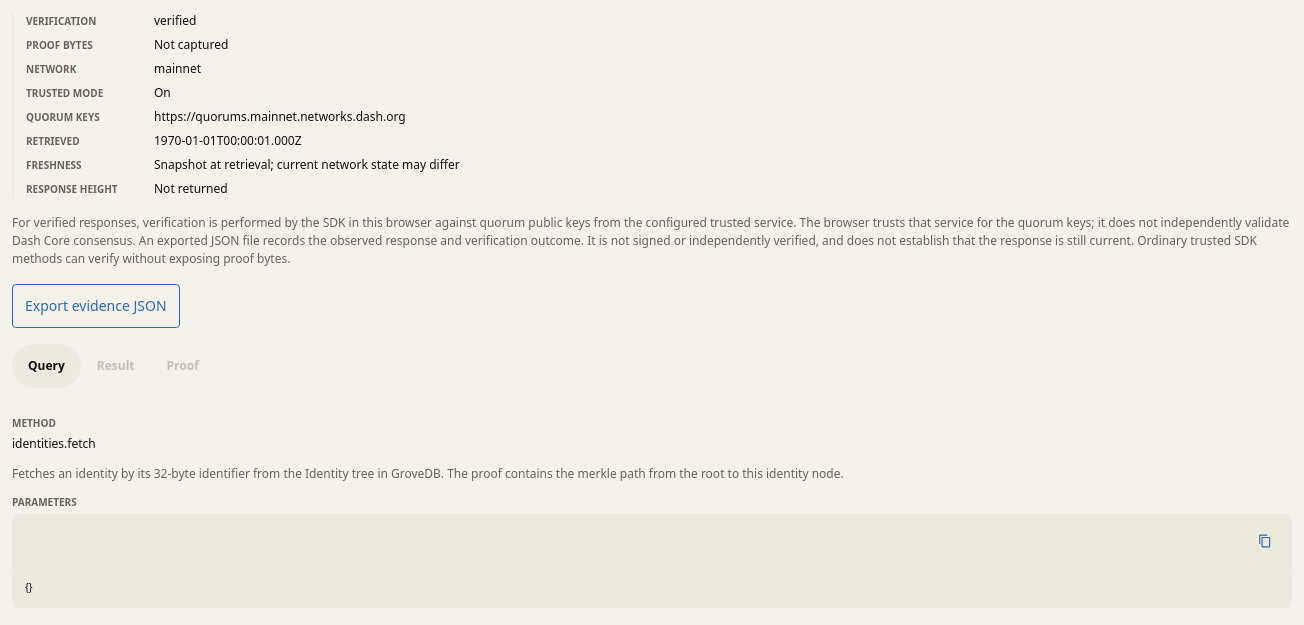
Scenario: query provenance › shows captured network context rather than the currently selected SDK network
Expected: the text "mainnet" is shown, [154,60,201,78]
Expected: the text "1970-01-01T00:00:01.000Z" is shown, [154,132,302,150]
Step 1. Click the tab "Proof" → coordinates (183, 366), box [150,344,215,388]
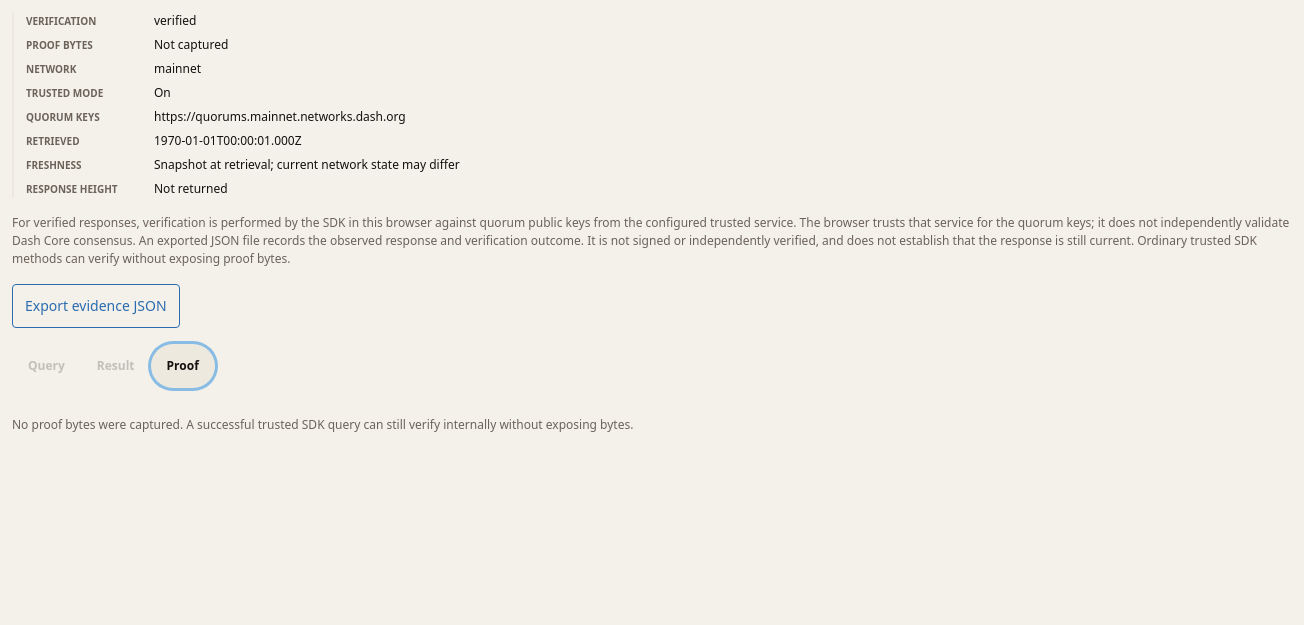
Result: the text "successful trusted SDK query can still verify internally" is shown at [186,416,633,433]
